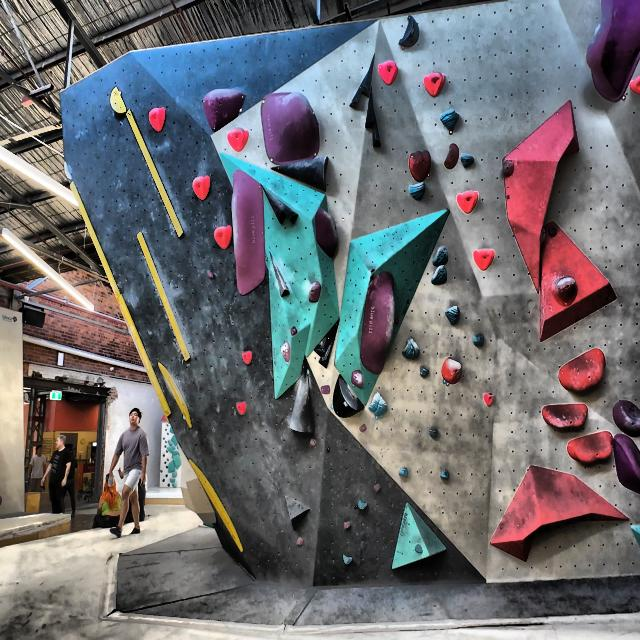Hold: (64, 177, 180, 428), (500, 92, 579, 302), (490, 465, 631, 561), (533, 216, 616, 347), (130, 226, 196, 366), (121, 107, 188, 242), (183, 453, 248, 561), (585, 0, 640, 108), (230, 170, 267, 302), (260, 90, 322, 162), (358, 271, 394, 374), (153, 358, 195, 436), (265, 157, 332, 192), (553, 348, 607, 391), (202, 85, 249, 132), (609, 434, 640, 498), (568, 426, 616, 466), (314, 207, 343, 261), (542, 400, 593, 430), (611, 393, 640, 436), (332, 379, 364, 417), (548, 274, 583, 308), (272, 191, 300, 226), (408, 148, 435, 182), (270, 252, 289, 300), (453, 186, 480, 216), (190, 173, 213, 204), (423, 70, 448, 98), (265, 185, 282, 226), (378, 59, 402, 88), (438, 105, 463, 132), (224, 128, 252, 152), (441, 356, 463, 386), (212, 220, 234, 250), (366, 392, 390, 418), (431, 241, 453, 267), (402, 331, 422, 359), (443, 139, 460, 171), (407, 180, 431, 202), (110, 83, 125, 116), (442, 302, 464, 324), (429, 266, 450, 288), (279, 340, 293, 365), (308, 280, 323, 303), (481, 391, 499, 408), (460, 150, 473, 170), (352, 368, 364, 388), (472, 331, 487, 347), (243, 345, 253, 369), (343, 549, 356, 566), (236, 397, 247, 417), (410, 543, 428, 555), (340, 518, 355, 532), (370, 482, 384, 495), (399, 464, 410, 480), (320, 383, 333, 396), (502, 162, 514, 176), (356, 496, 368, 510), (429, 428, 443, 438), (419, 364, 429, 378), (296, 534, 304, 549), (310, 436, 318, 450), (442, 470, 453, 480), (205, 268, 216, 278), (291, 324, 298, 338), (359, 424, 367, 434)
